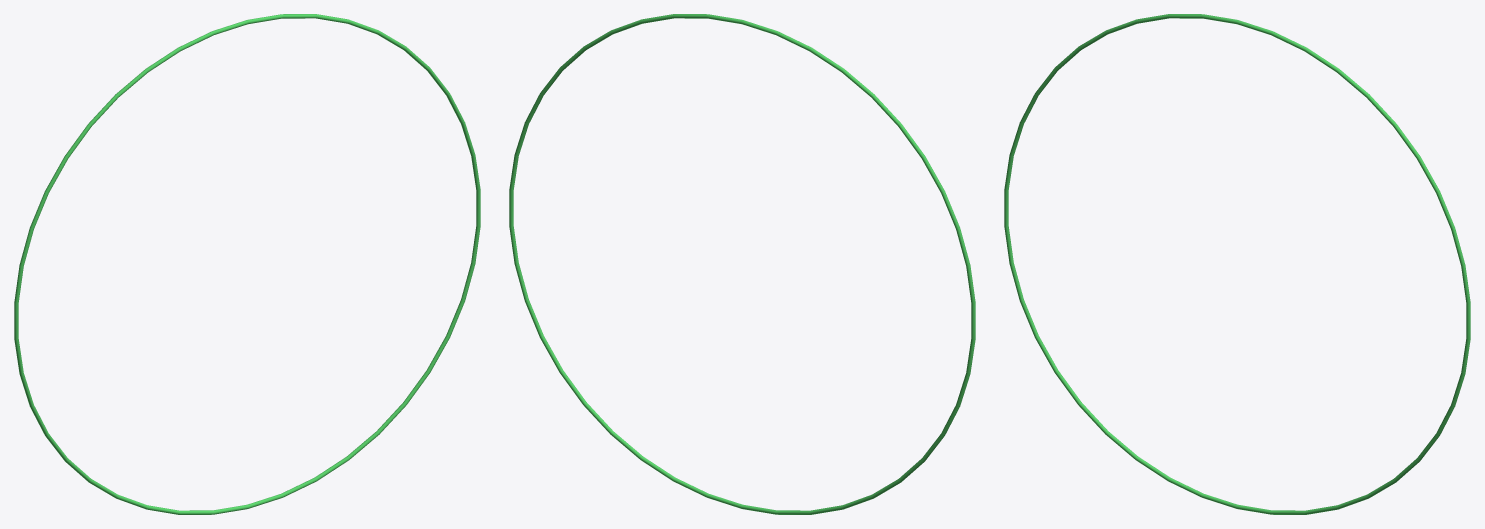
The model's file is Rotate_Y.fbx.
3 views of the same model, side by side, from view 1: azimuth 30°, elevation 25°; view 2: azimuth 150°, elevation 25°; view 3: azimuth 330°, elevation 25° (orthographic).
Parts seen in each view (by area): view 1: Y_Axis; view 2: Y_Axis; view 3: Y_Axis.
Part boxes in pixels (x1,y1,x2,y2): Y_Axis: (14, 14, 480, 514); Y_Axis: (509, 14, 975, 514); Y_Axis: (1004, 14, 1470, 514).
Size of the model in its own units: 121 by 121 by 0.9848.
